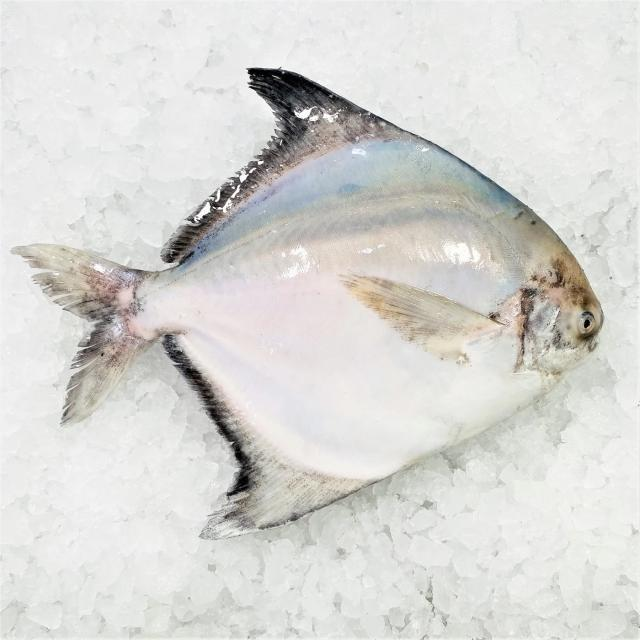pomfred: (7, 70, 607, 535)
